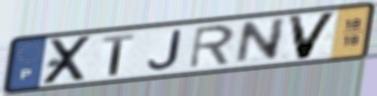J: (145, 28, 184, 72)
N: (233, 16, 289, 66)
R: (187, 23, 237, 71)
T: (101, 32, 136, 77)
V: (285, 10, 341, 62)
X: (39, 34, 97, 87)
